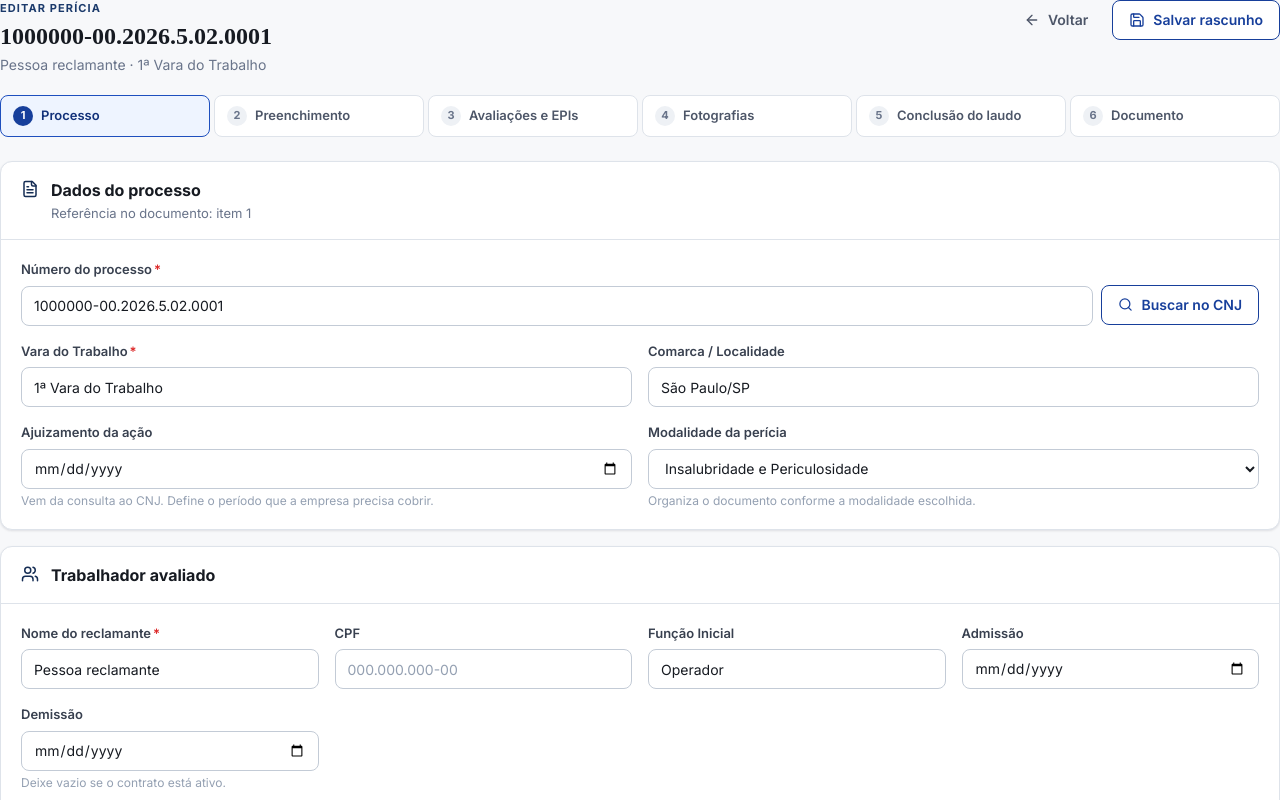
Test: PericiaEditor — varredura obrigatória dos anexos › mostra as duas varreduras quando a modalidade abrange ambas
Click the button "3 Avaliações e EPIs".
click(533, 116)  # box 428,94 -> 638,136
(page scrolled)
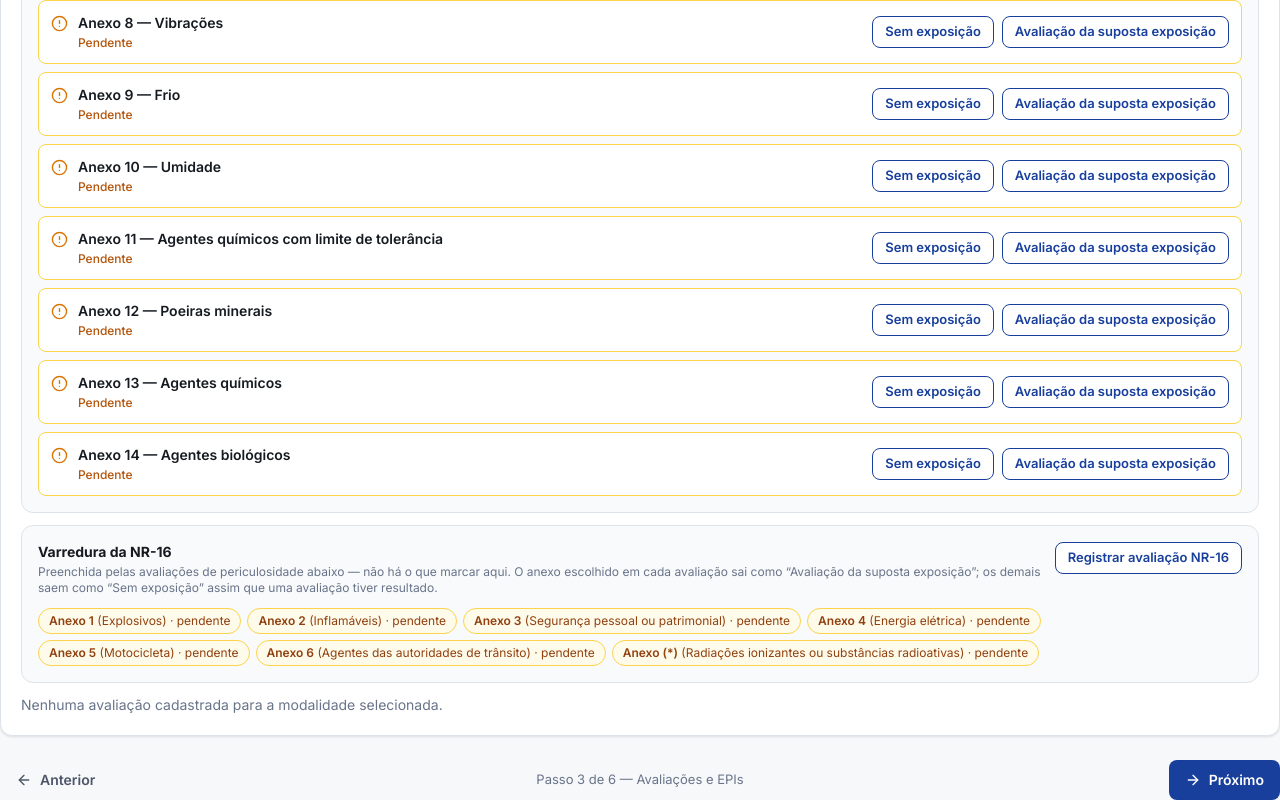
Check: the element named "Varredura dos anexos da NR-16" is shown, box 21,525 -> 1259,683
